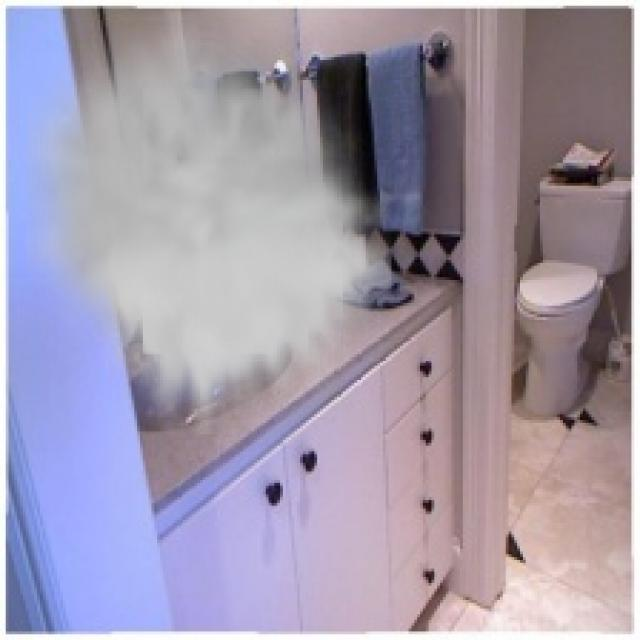Smoke: (26, 12, 392, 434)
